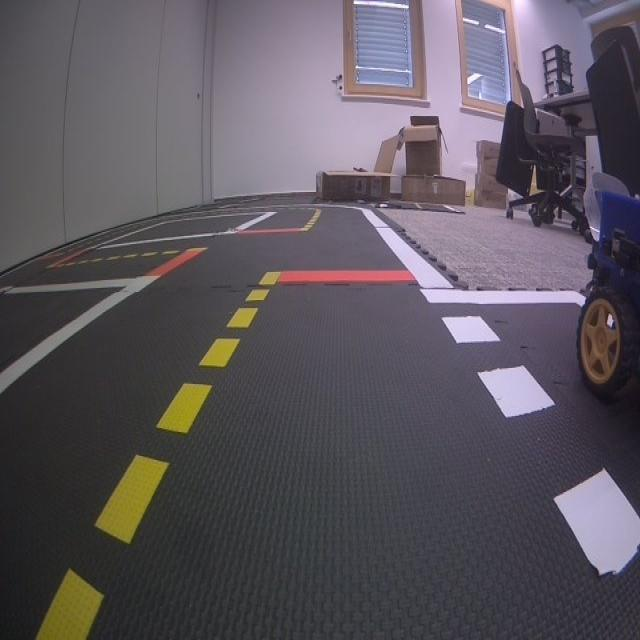bot: (573, 187, 640, 401)
park: (422, 288, 636, 634)
